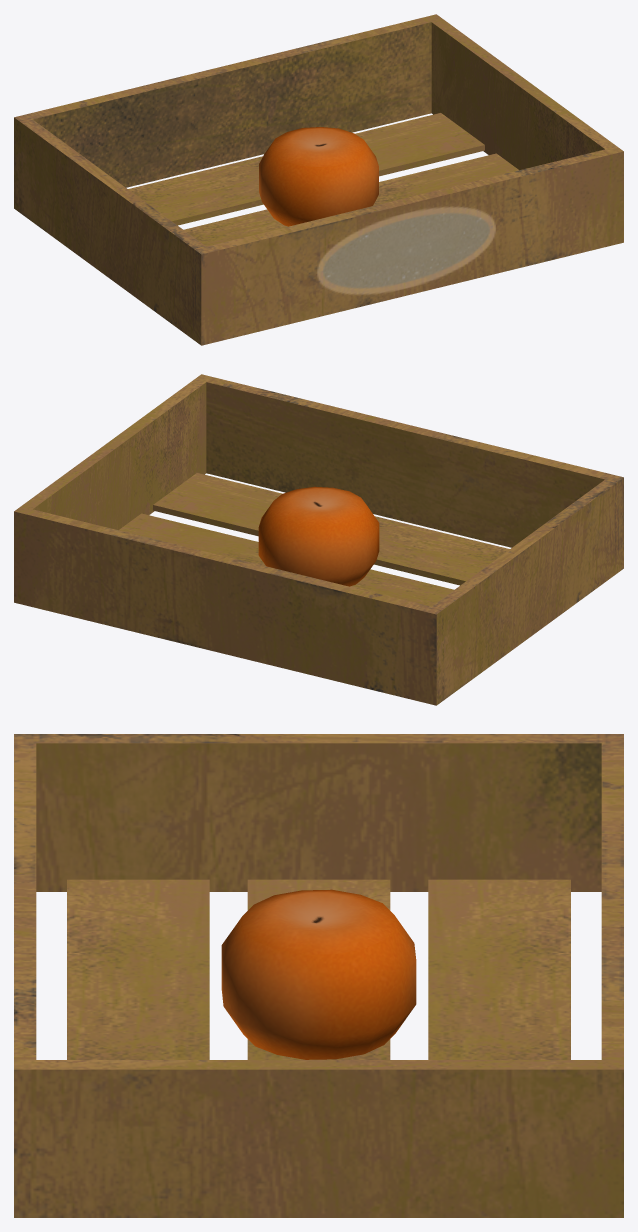
Rendered from FruitBasket_Multi_HP.fbx.
3 views of the same model, one above another, from view 1: azimuth 30°, elevation 25°; view 2: azimuth 150°, elevation 25°; view 3: azimuth 270°, elevation 25° (orthographic). The views are drawn at different scales.
Parts seen in each view (by area): view 1: Basket, Orange; view 2: Basket, Orange; view 3: Basket, Orange.
Part boxes in pixels (x1,y1,x2,y2): Basket: [14, 14, 623, 345]; Orange: [259, 127, 378, 226]; Basket: [14, 374, 623, 705]; Orange: [258, 486, 379, 586]; Basket: [14, 734, 623, 1217]; Orange: [221, 889, 416, 1059].
Bounding box in the file's own units: 111 × 22.81 × 84.98.
1 material, 1 textured.
